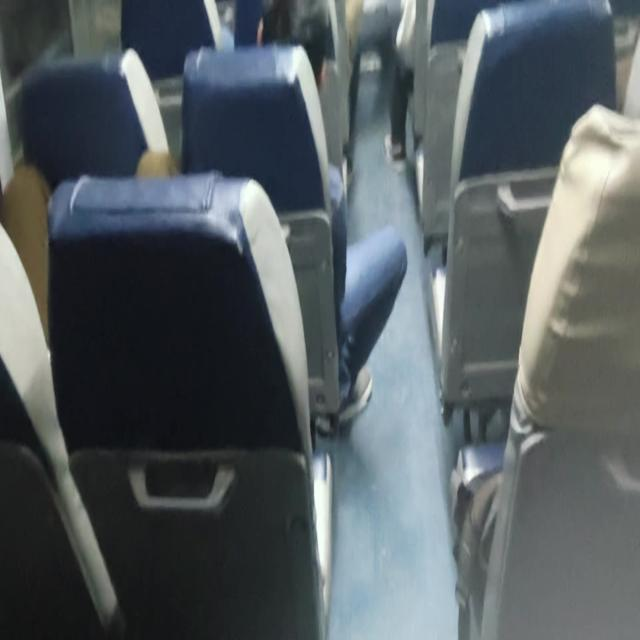person: (452, 34, 639, 637), (257, 3, 408, 426), (384, 0, 416, 162)
